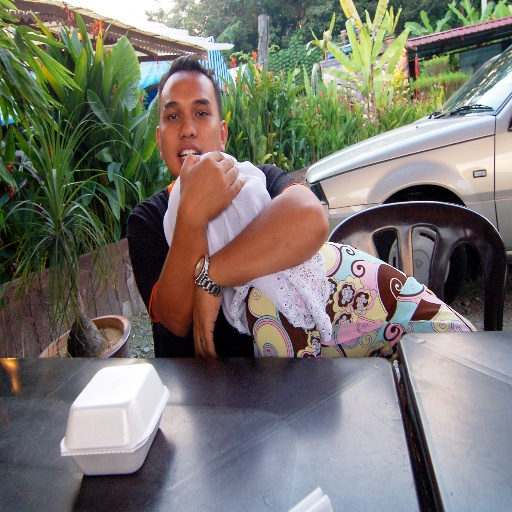hand: (184, 148, 242, 207), (190, 261, 223, 361)
